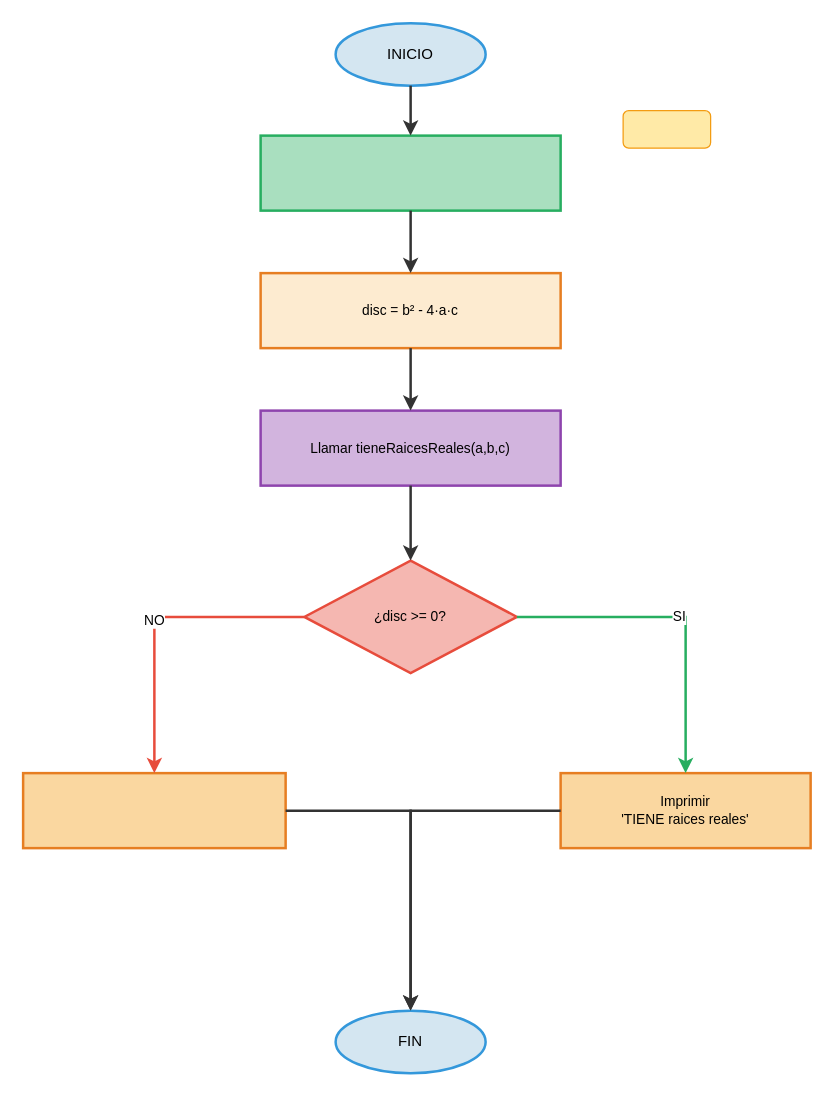
Image size: 833x1095. Some labels were removed from this diagram. Here are the shapes that lost their labels. From the top down, the centre of each, then its label:
point 666,128: O(1)
point 410,172: Leer a, b, c
point 153,810: Imprimir 'NO tiene raices reales'
